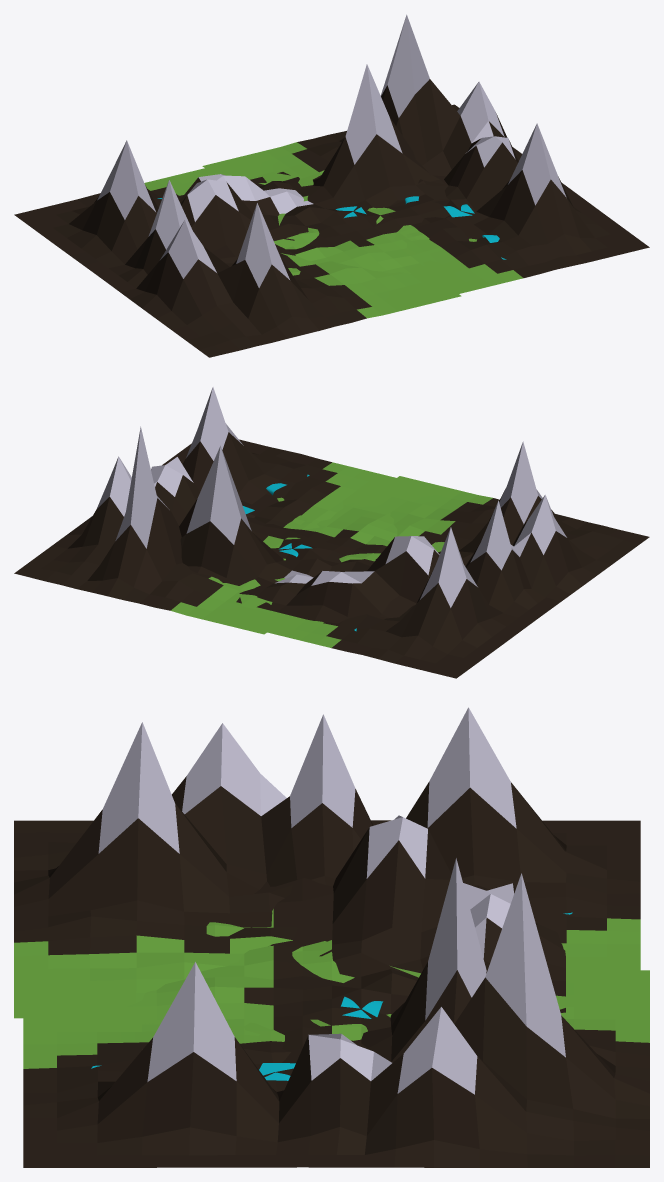
File: MountValley2.obj
The picture shows the model from 3 angles, top to bottom: view 1: azimuth 30°, elevation 25°; view 2: azimuth 150°, elevation 25°; view 3: azimuth 270°, elevation 25°; orthographic projection. The views are drawn at different scales.
Visible parts, largest first — view 1: Sahne_Plane; view 2: Sahne_Plane; view 3: Sahne_Plane.
Boxes of the visible parts, x1,y1,x2,y2 form: Sahne_Plane: (14,14,649,357); Sahne_Plane: (14,387,649,678); Sahne_Plane: (14,707,649,1167).
Bounding box in the file's own units: 27.86 × 8.73 × 21.57.
